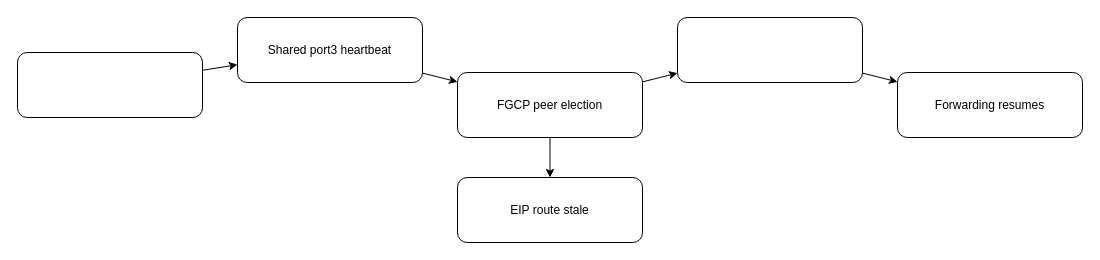
The diagram is 1100 pixels wide and 260 high, and some of its shapes have lost their labels. Here are the shapes that lost their labels. From the top down, the centre of each, then its label:
(x=769, y=49): AWS EIP/route move
(x=109, y=85): AWS ENI WAN + LAN
